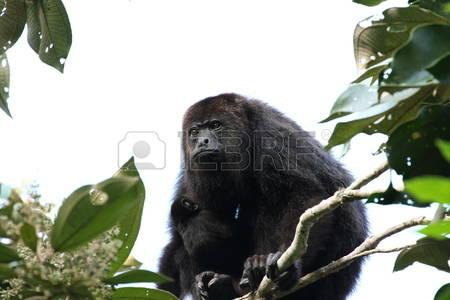monkey: (160, 93, 370, 300)
